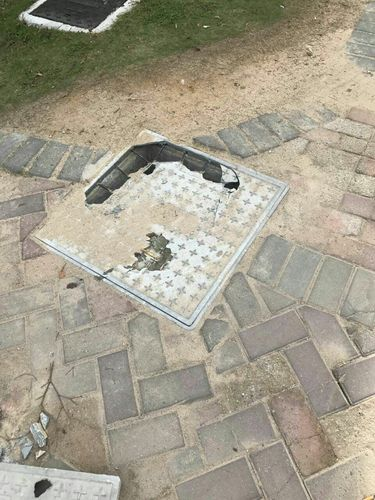broke: (38, 117, 294, 339)
